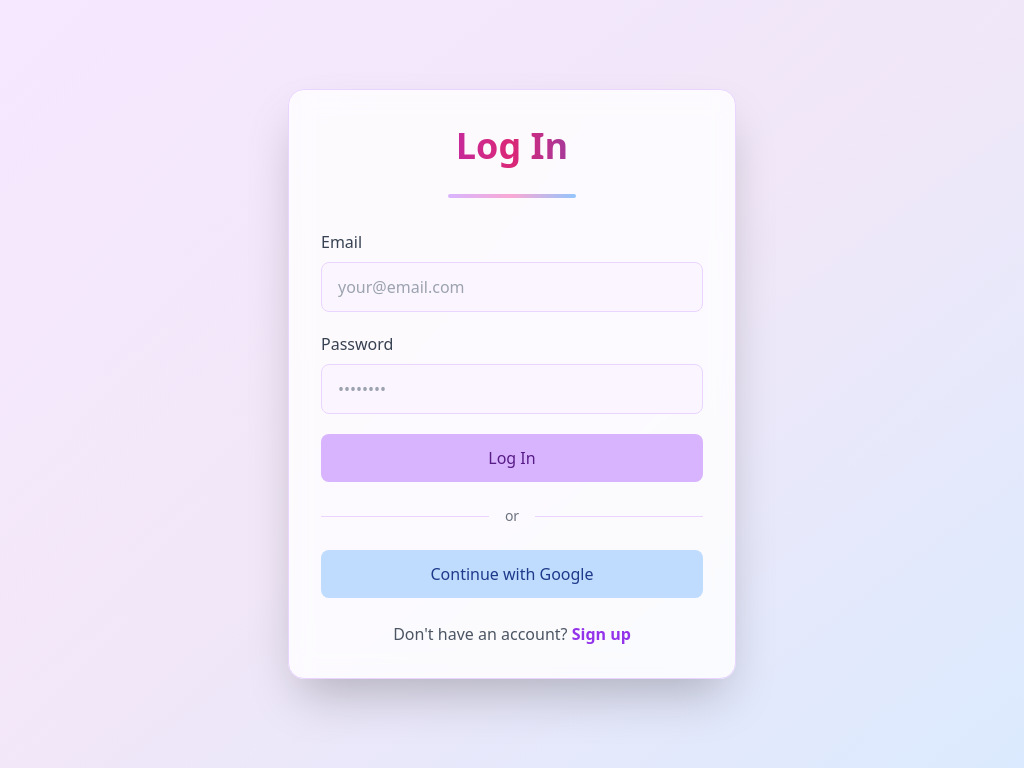
Test: LoginPage - Formulario de autenticación › CASO 4: credenciales inválidas → muestra error y no redirige
In the field labelled "Email": (512, 287) [321,262,703,312], type "test@test.com"
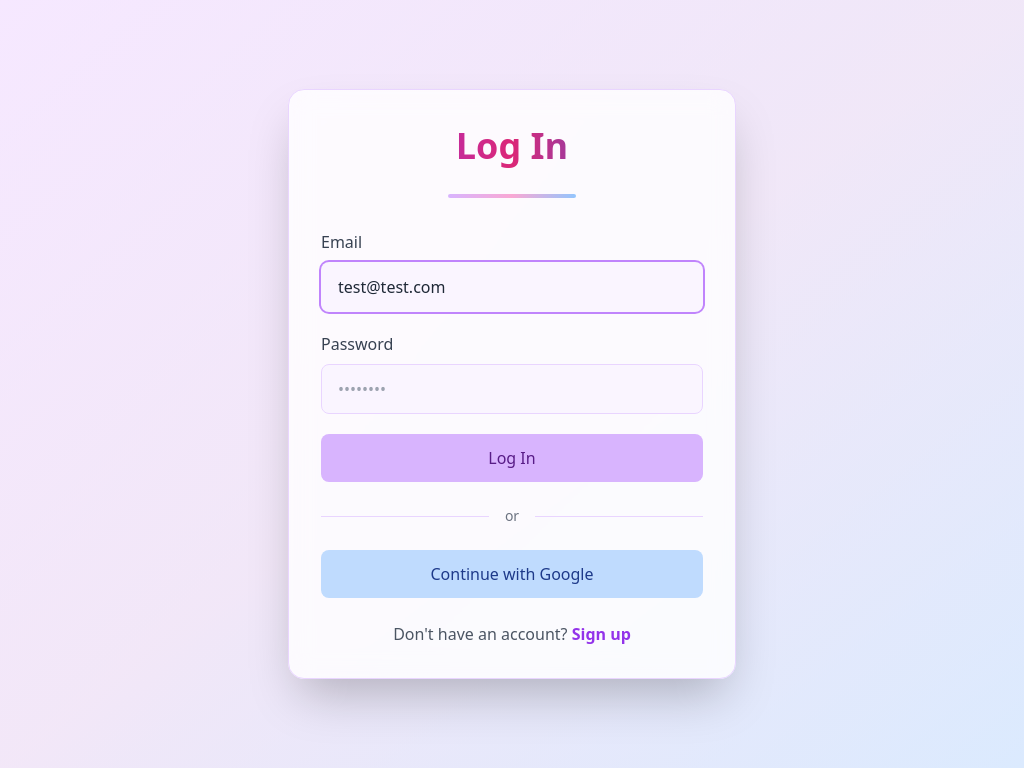
In the password field labelled "Password": (512, 389) [321,364,703,414], type "wrongpassword"
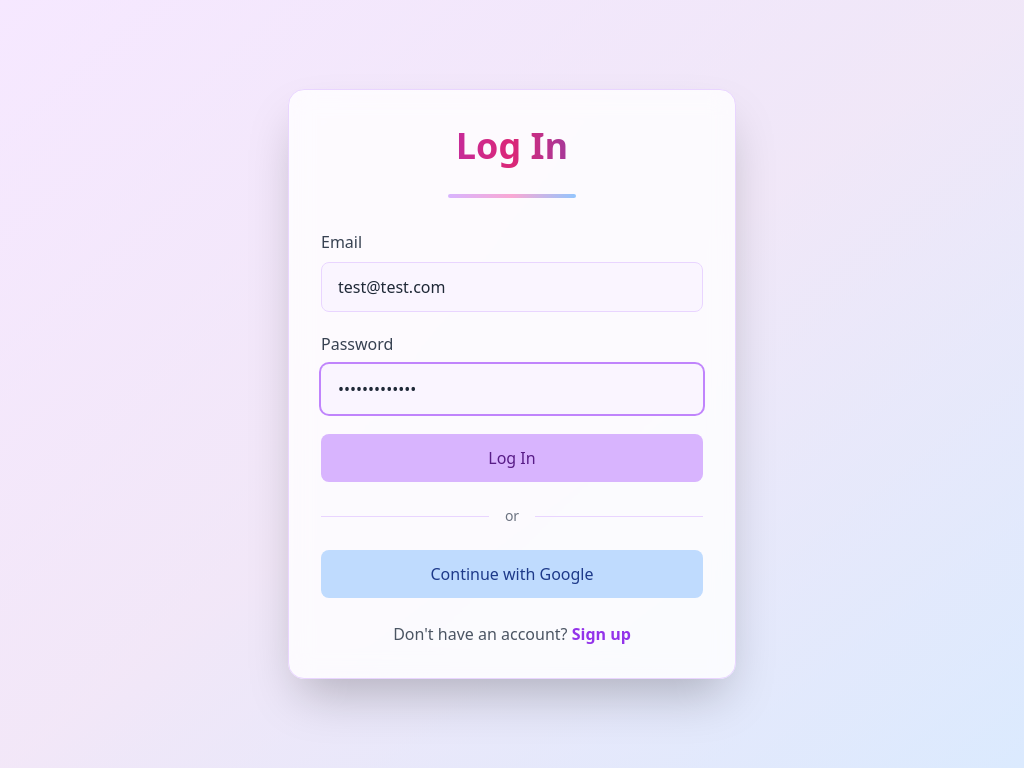
Click the button "Log In": (512, 458) [321,434,703,482]
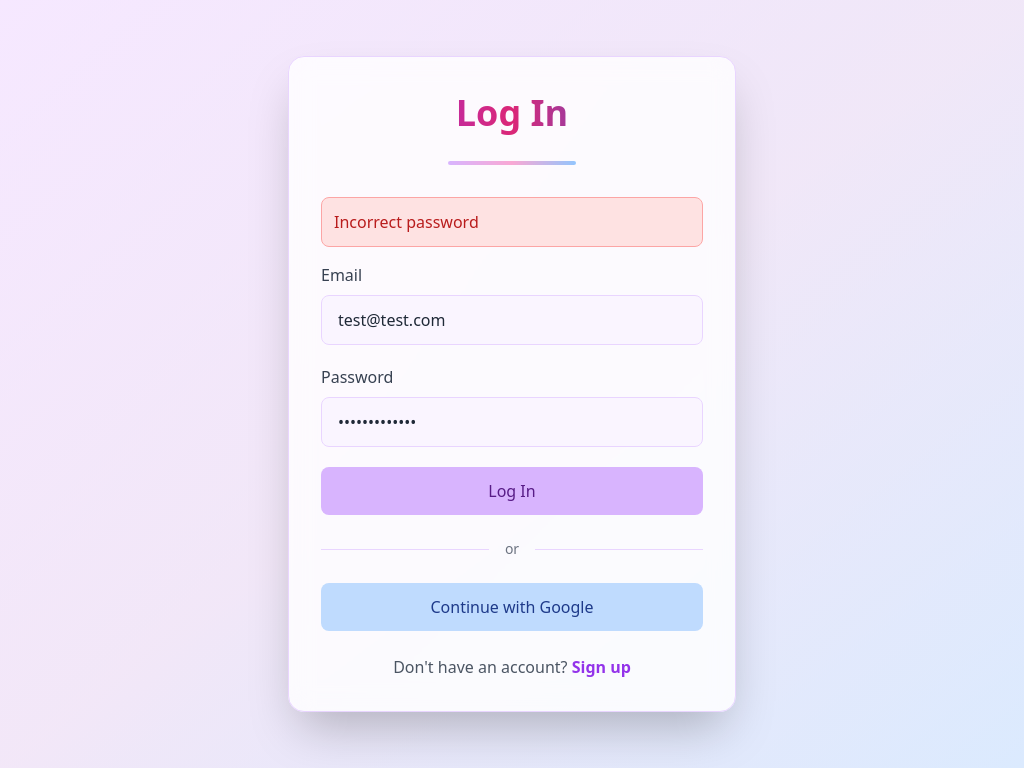
Expected: the text "Incorrect password" is shown, [321,197,703,247]
